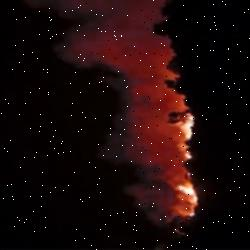fire: (162, 94, 204, 226)
